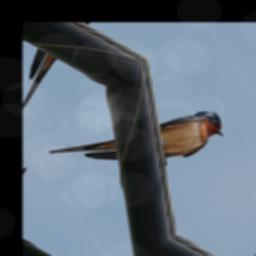Swallow: (48, 64, 231, 218)
